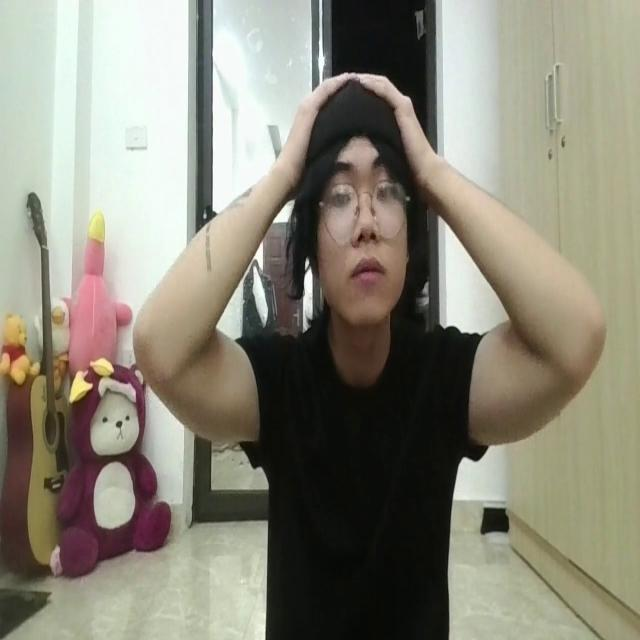student: (127, 66, 605, 640)
